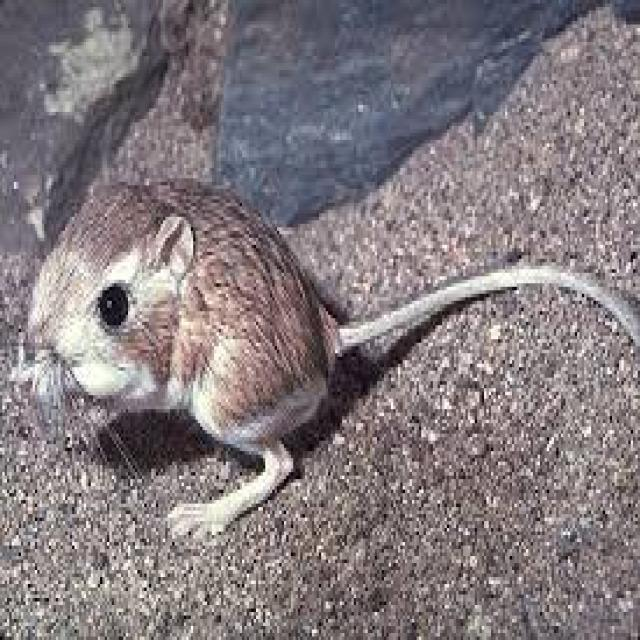Rat: (16, 144, 412, 534)
